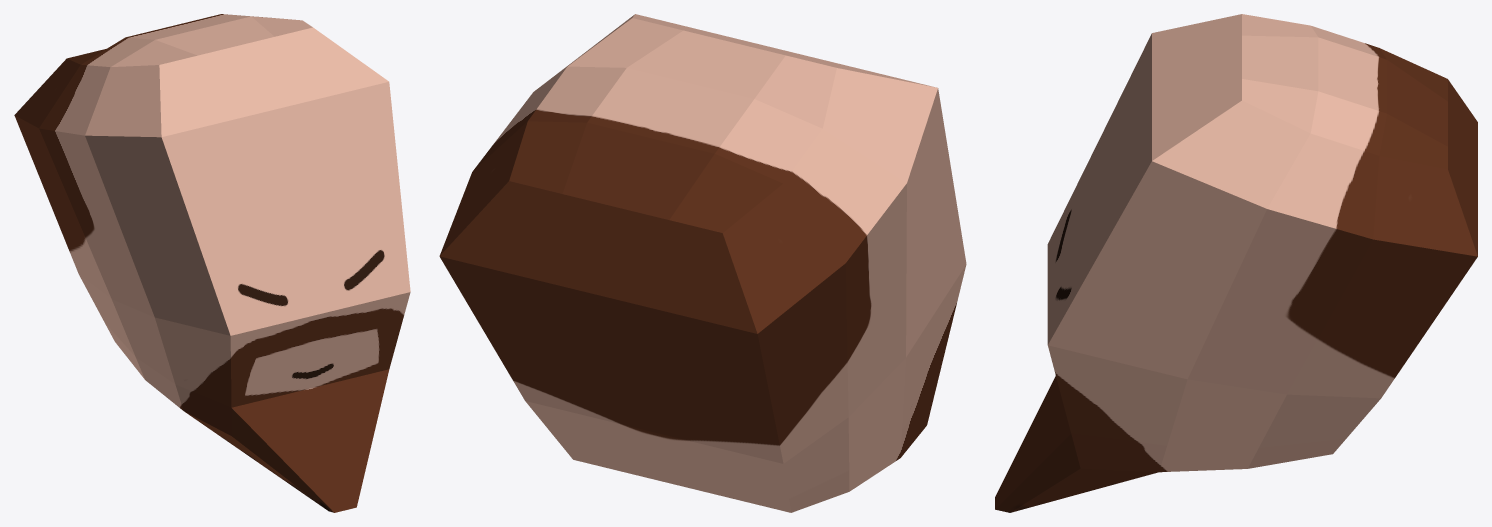
The model's file is Chubby Head.glb.
3 renders of one model, left to right at view 1: azimuth 30°, elevation 25°; view 2: azimuth 150°, elevation 25°; view 3: azimuth 270°, elevation 25°, orthographic. The views are drawn at different scales.
Visible parts, largest first — view 1: StandaloneHead; view 2: StandaloneHead; view 3: StandaloneHead.
Boxes of the visible parts, x1=… form: StandaloneHead: x1=14, y1=14, x2=410, y2=512; StandaloneHead: x1=439, y1=14, x2=966, y2=512; StandaloneHead: x1=995, y1=14, x2=1477, y2=512.
Bounding box in the file's own units: 0.5405 × 0.7159 × 0.6985.
1 material, 1 textured.
